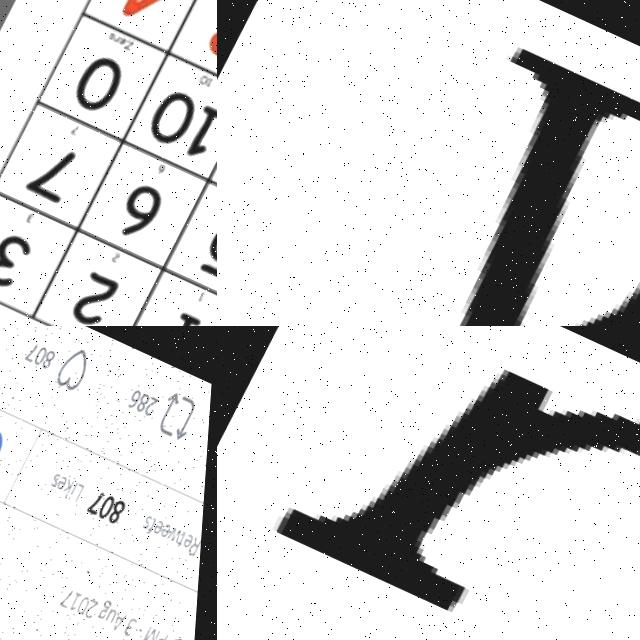0: (69, 49, 133, 120), (142, 81, 205, 150), (99, 493, 120, 520), (78, 594, 97, 616), (33, 344, 50, 366)
1: (181, 97, 217, 162), (156, 302, 217, 326), (70, 588, 88, 612)
2: (68, 262, 134, 326), (143, 396, 160, 418), (87, 598, 103, 620)
3: (0, 225, 44, 293), (204, 0, 217, 64), (125, 615, 144, 638)
4: (107, 0, 179, 30)
5: (197, 216, 217, 288)
6: (114, 178, 176, 245), (127, 388, 144, 410)
7: (26, 140, 92, 211), (88, 488, 110, 516), (26, 339, 42, 362), (63, 586, 79, 608)
8: (108, 497, 132, 528), (39, 346, 60, 372), (135, 392, 152, 414)
9: (169, 634, 186, 640)
G: (217, 326, 640, 640)
K: (217, 0, 640, 326)
